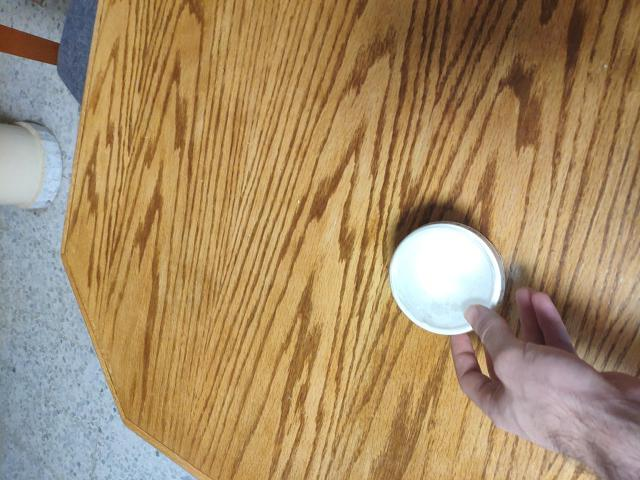cotage: (387, 213, 502, 346)
